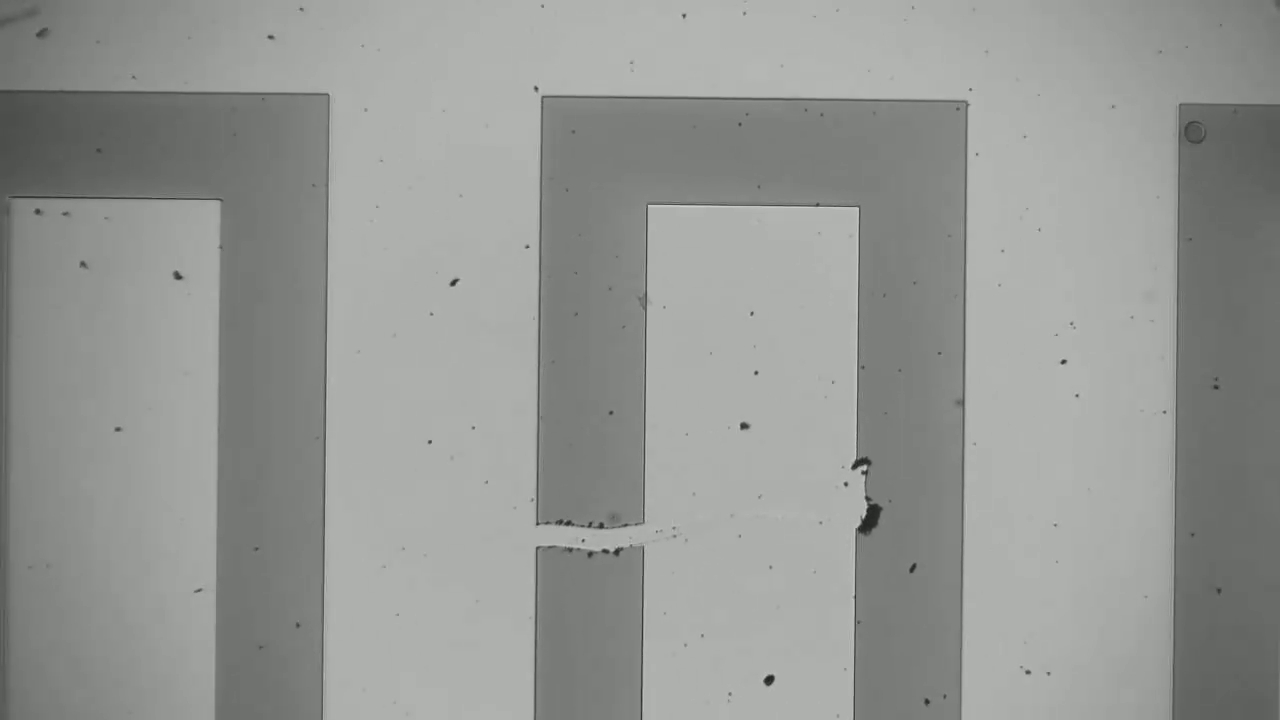Short_circuit: (515, 502, 668, 577)
